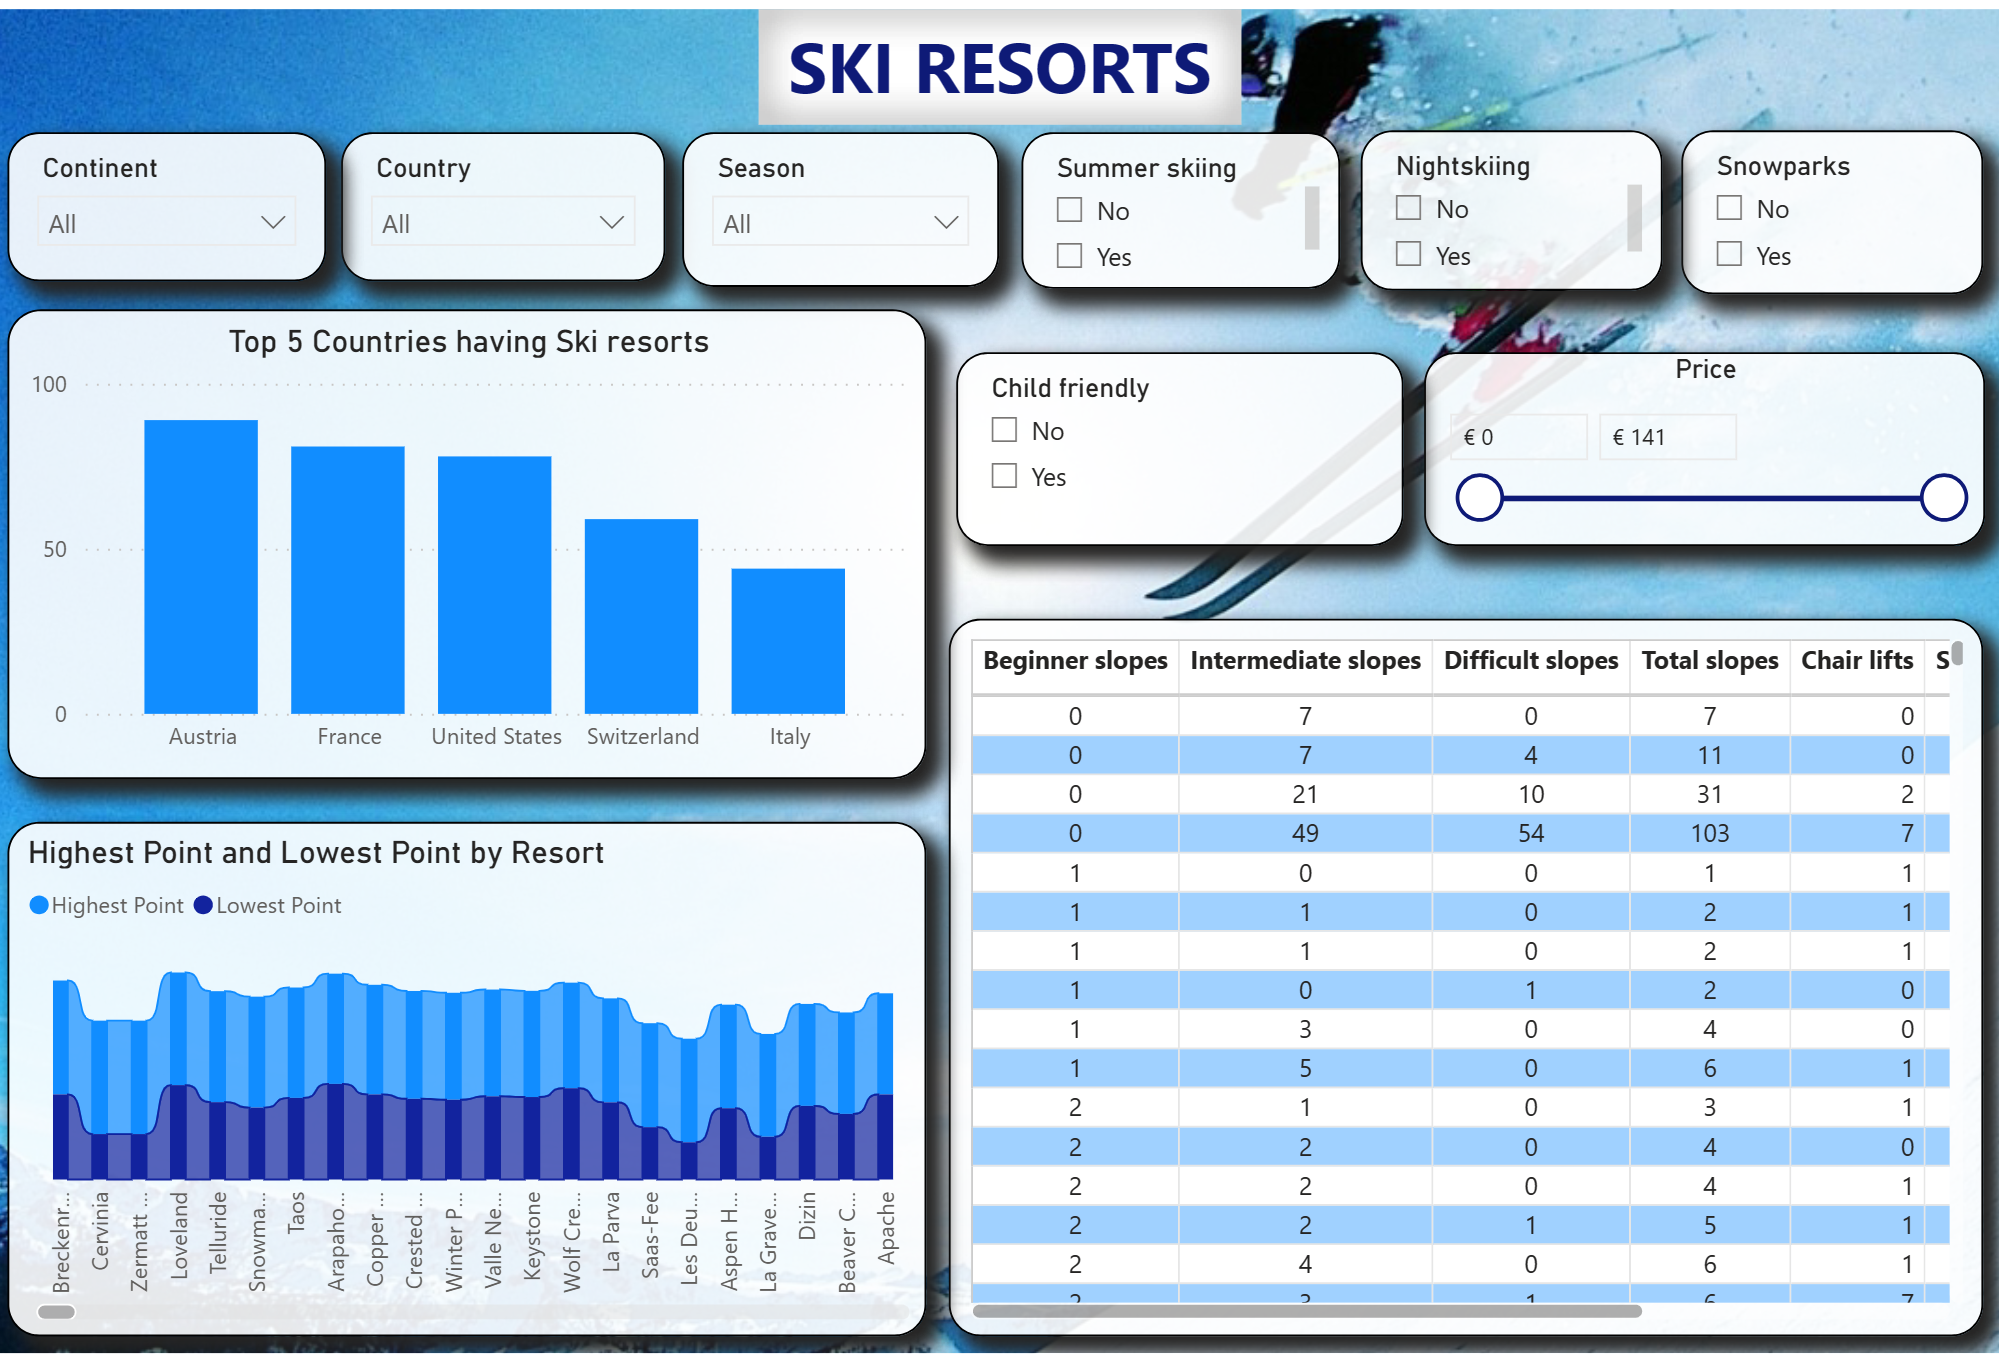

Layout of this report page (visuals, bound fields, positions):
{"tool":"powerbi","page":{"name":"Page 1","canvas":[1073,721],"ordinal":0},"visuals":[{"type":"slicer","fields":{"Values":["resorts.Country"]},"box":[182.9,66,173.9,80.3],"z":0},{"type":"slicer","fields":{"Values":["resorts.Continent"]},"box":[4.5,66,171.3,80.3],"z":1000},{"type":"slicer","title":"Price","fields":{"Values":["resorts.Price"]},"box":[763.5,183.7,300.6,104.4],"z":2000},{"type":"slicer","fields":{"Values":["resorts.Season"]},"box":[365.7,66,170.4,83],"z":3000},{"type":"textbox","box":[406.7,0,258.7,62.4],"z":4000},{"type":"tableEx","fields":{"Values":["resorts.Beginner slopes","resorts.Intermediate slopes","resorts.Difficult slopes","resorts.Total slopes","resorts.Chair lifts","resorts.Surface lifts","resorts.Gondola lifts","resorts.Total lifts"]},"box":[509.3,327.4,554.8,385.3],"z":5000},{"type":"slicer","fields":{"Values":["resorts.Summer skiing"]},"box":[547.7,66,171.3,83.8],"z":7000},{"type":"slicer","fields":{"Values":["resorts.Child friendly"]},"box":[512.9,183.7,239.9,104.4],"z":8000},{"type":"slicer","fields":{"Values":["resorts.Snowparks"]},"box":[901.8,65.1,162.3,88.3],"z":9000},{"type":"slicer","fields":{"Values":["resorts.Nightskiing"]},"box":[729.6,65.1,162.3,85.6],"z":10000},{"type":"ribbonChart","fields":{"Category":["resorts.Resort"],"Y":["Sum(resorts.Highest point)","Sum(resorts.Lowest point)"]},"box":[4.5,436.2,493.3,275.6],"z":11000},{"type":"lineClusteredColumnComboChart","title":"Top 5 Countries having Ski resorts","fields":{"Category":["resorts.Country"],"Y":["CountNonNull(resorts.Resort)"]},"box":[4.5,161.4,493.3,252.4],"z":12000}]}

Visuals, with their boxes in screenshot pixels (x1, y1, x2, y2), scaled from the page's 1073x721 canvas onto the 1999x1362 screenshot:
slicer - resorts.Country: detection(341, 125, 665, 276)
slicer - resorts.Continent: detection(8, 125, 328, 276)
"Price" slicer: detection(1422, 347, 1982, 544)
slicer - resorts.Season: detection(681, 125, 999, 281)
textbox: detection(758, 0, 1240, 118)
tableEx - resorts.Beginner slopes x resorts.Intermediate slopes: detection(949, 618, 1982, 1346)
slicer - resorts.Summer skiing: detection(1020, 125, 1339, 283)
slicer - resorts.Child friendly: detection(956, 347, 1402, 544)
slicer - resorts.Snowparks: detection(1680, 123, 1982, 290)
slicer - resorts.Nightskiing: detection(1359, 123, 1662, 285)
ribbonChart - resorts.Resort x Sum(resorts.Highest point): detection(8, 824, 927, 1345)
"Top 5 Countries having Ski resorts" lineClusteredColumnComboChart: detection(8, 305, 927, 782)
